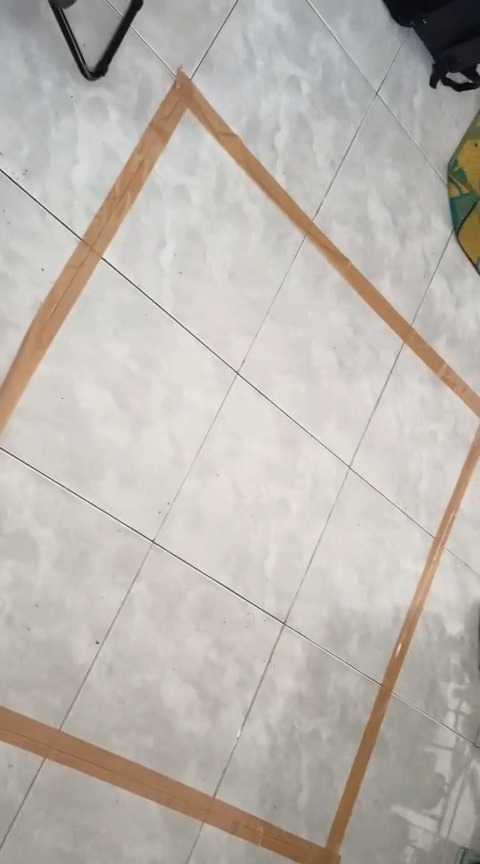floor marking: (0, 427, 479, 863), (0, 69, 479, 431)
